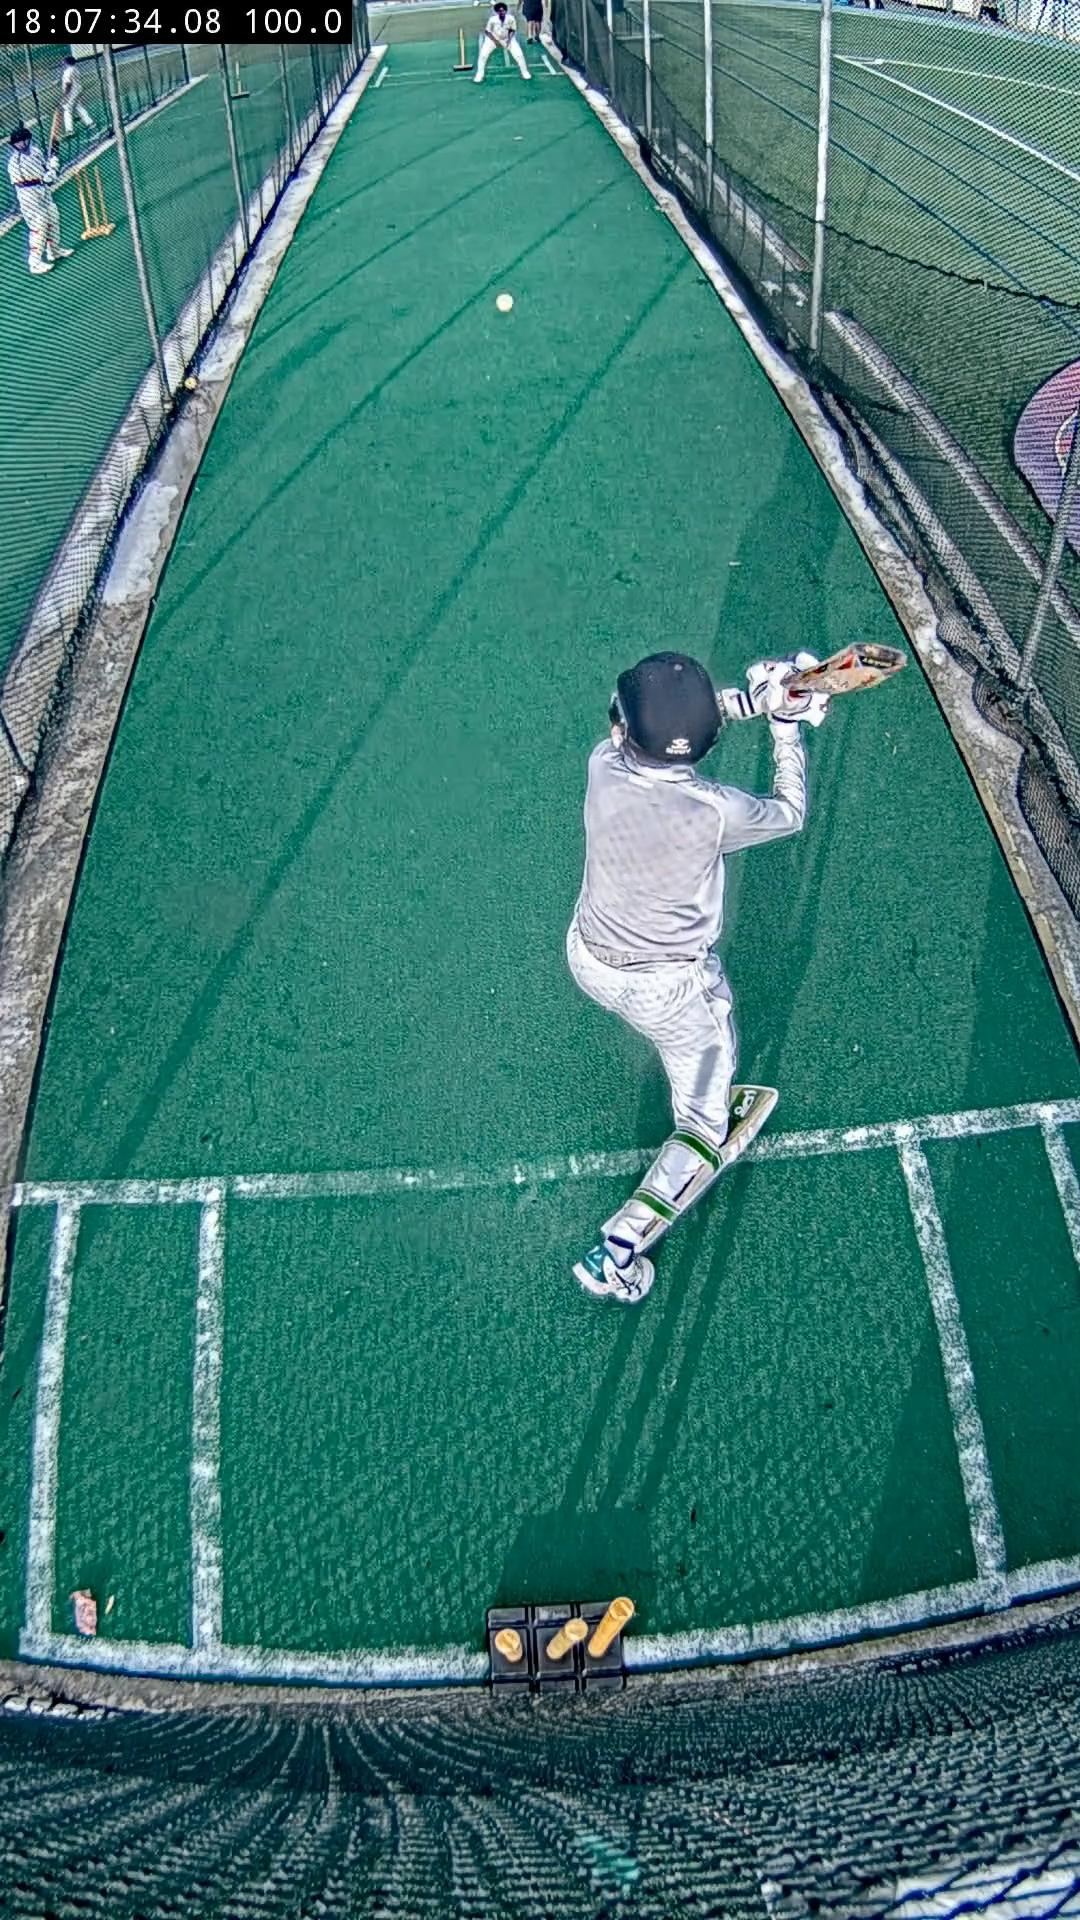ball: (495, 293, 514, 311)
bat: (783, 641, 907, 694)
gloves: (716, 653, 828, 721)
helmet: (615, 653, 720, 761)
pads: (667, 1084, 781, 1222), (637, 1230, 663, 1250)
stumps: (488, 1597, 634, 1695)
